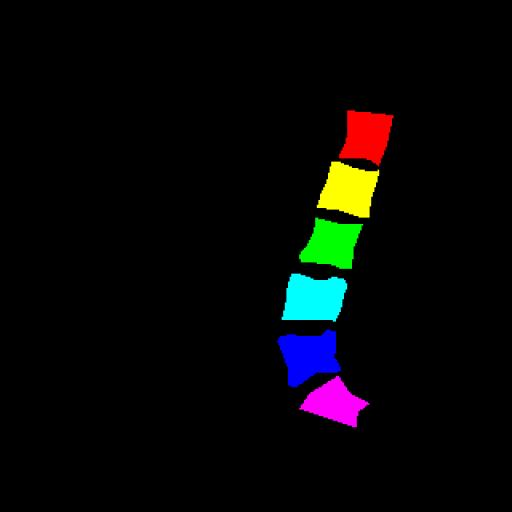L1: (339, 110, 393, 166)
L2: (317, 162, 379, 218)
L3: (301, 218, 362, 268)
L4: (282, 274, 346, 322)
L5: (280, 331, 341, 386)
S1: (300, 376, 369, 426)
